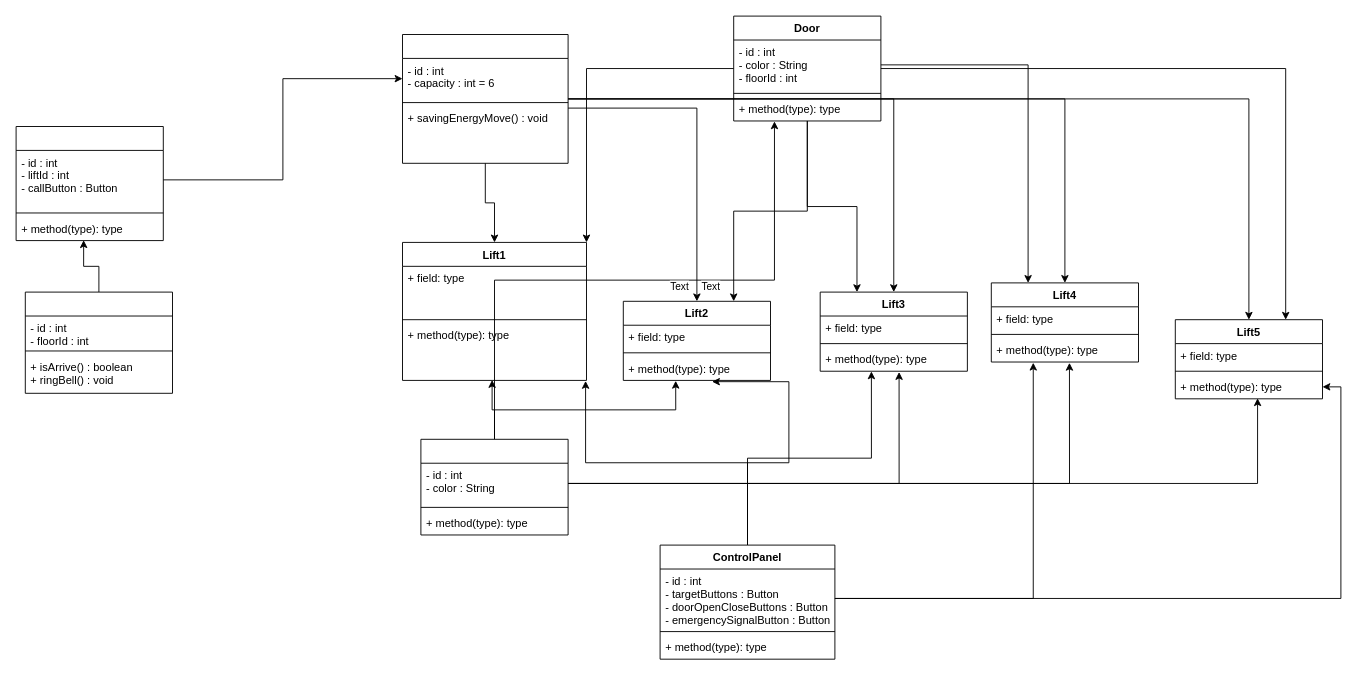
Some shapes in this 1364 by 678 pixel diagram are drawn without their labels. The box of each missing label's shape, as (x1, y1, x2, y2) in pixels:
ArrivalBell: (24, 291, 172, 393)
Floor: (15, 126, 163, 241)
FloorIndicatorLight: (420, 438, 568, 535)
Lift: (402, 34, 568, 163)
